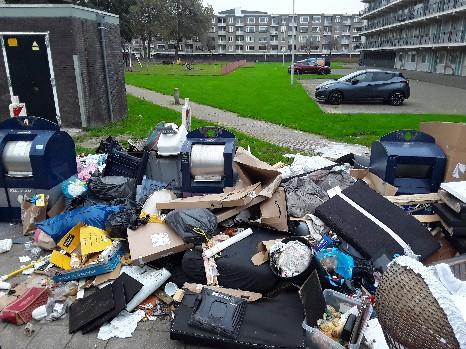Container: (6, 121, 70, 213), (367, 134, 442, 200), (184, 130, 233, 189)
Papier: (240, 155, 286, 215), (122, 225, 181, 254)
Rest: (249, 238, 373, 345), (171, 266, 315, 349), (322, 201, 451, 277), (369, 262, 466, 349), (93, 236, 171, 320), (219, 219, 317, 280), (293, 157, 381, 220), (46, 229, 112, 304), (99, 166, 158, 228), (86, 147, 144, 208), (133, 114, 189, 167), (8, 268, 64, 320), (160, 202, 213, 240), (171, 193, 257, 210), (451, 115, 466, 173), (456, 173, 466, 253)
